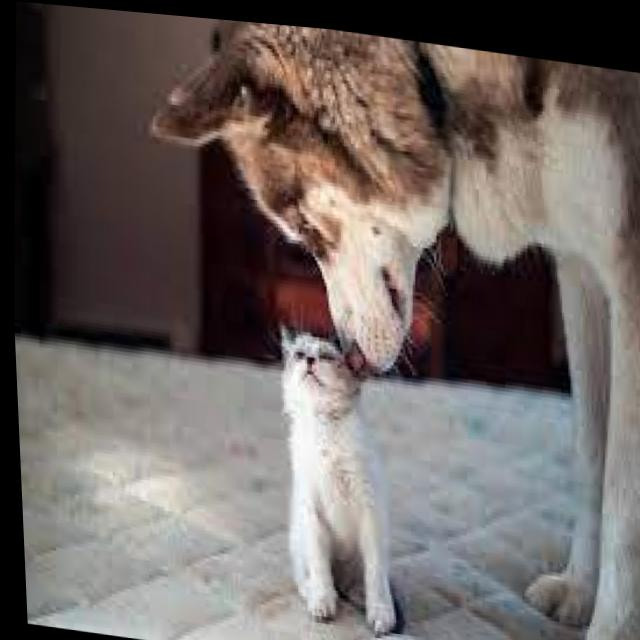Cat: (260, 310, 398, 637)
Dog: (156, 11, 640, 356)
